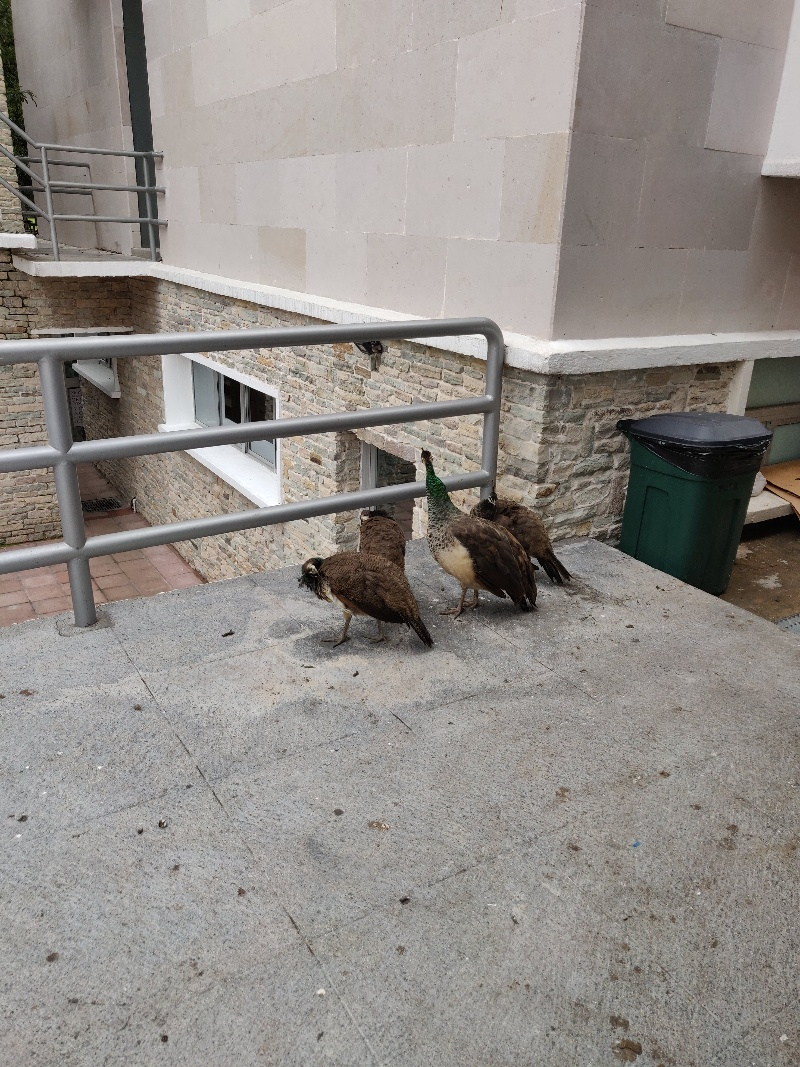pavoreal: (416, 446, 505, 601), (292, 549, 408, 648)
